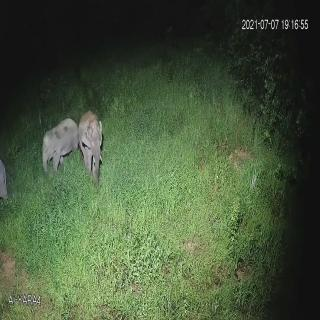Elephant: (41, 117, 81, 180), (78, 106, 108, 188)
